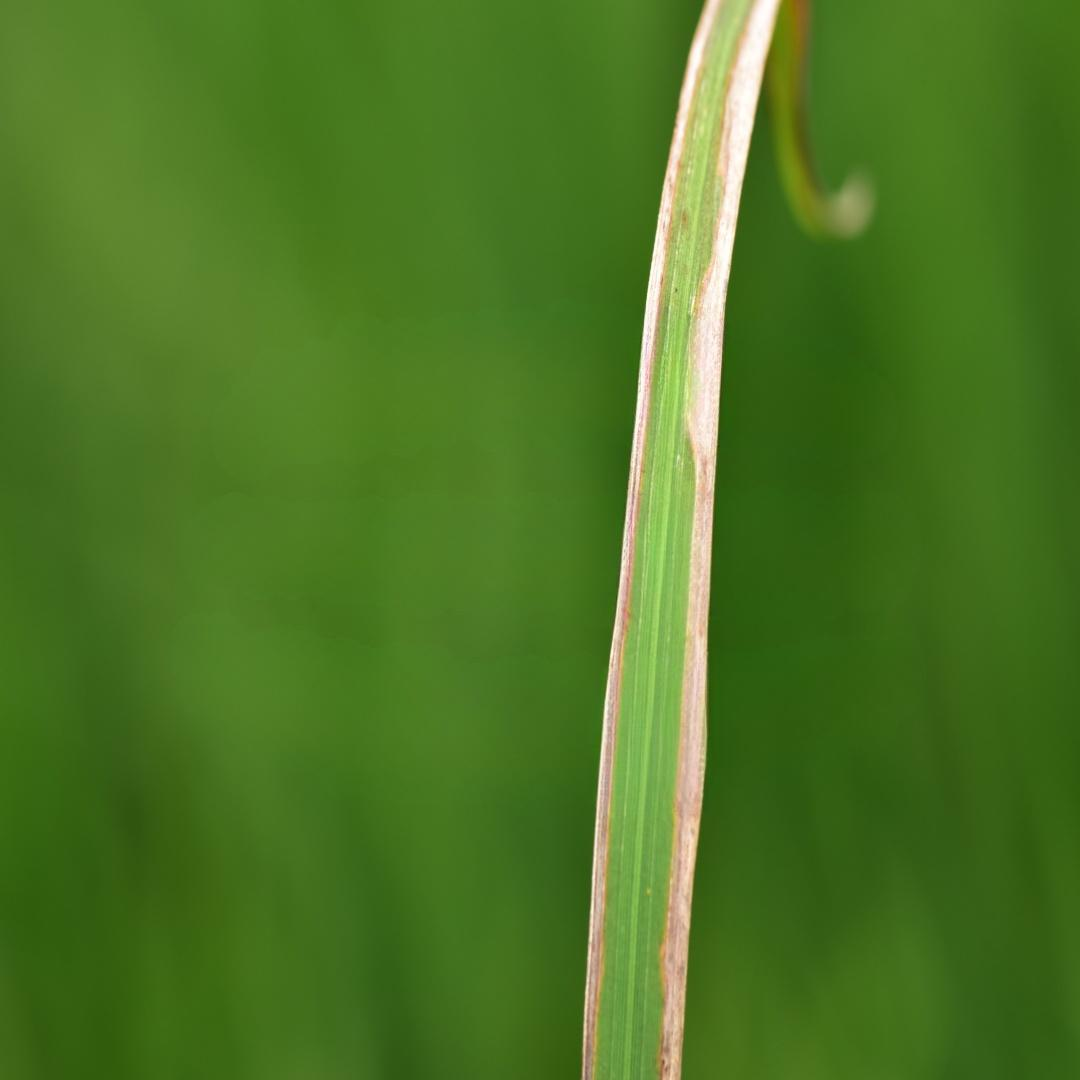BLB: (582, 0, 720, 1079), (660, 0, 779, 1079)
